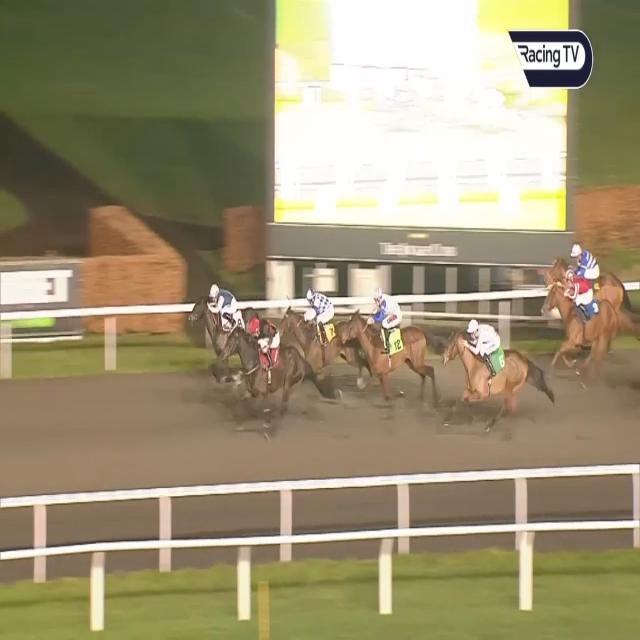horses-racing: (341, 286, 434, 401), (446, 318, 538, 423), (225, 309, 308, 414), (541, 270, 618, 376), (279, 291, 352, 381), (546, 234, 626, 308), (195, 284, 250, 344)
